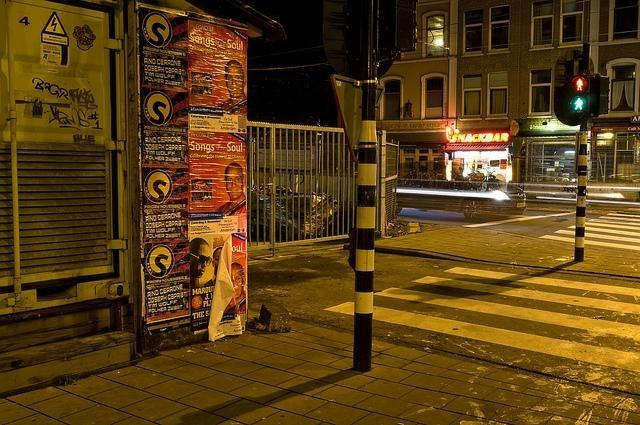car: (398, 162, 526, 220)
